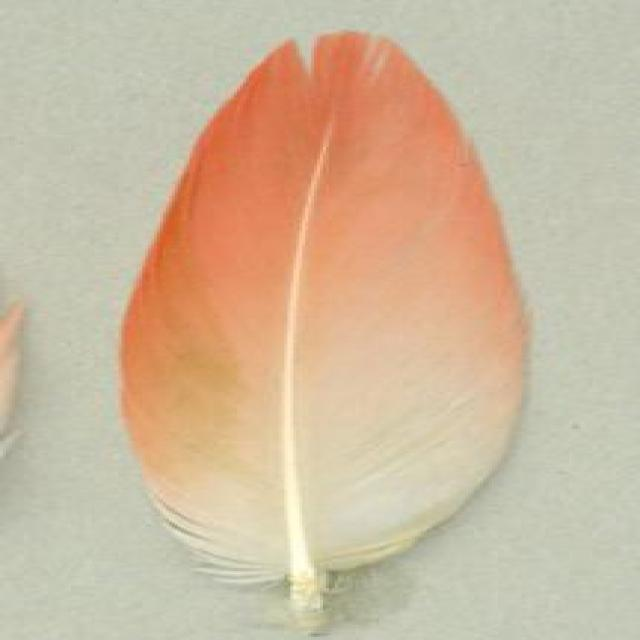feather: (116, 26, 539, 640)
